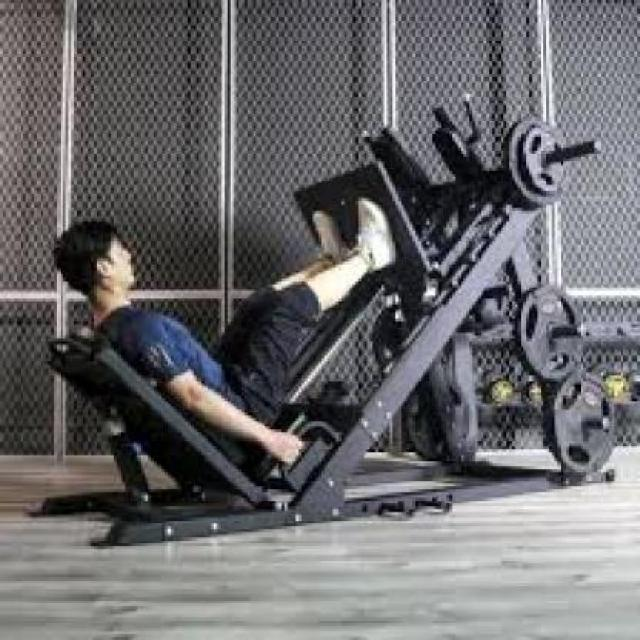leg press: (27, 72, 640, 566)
